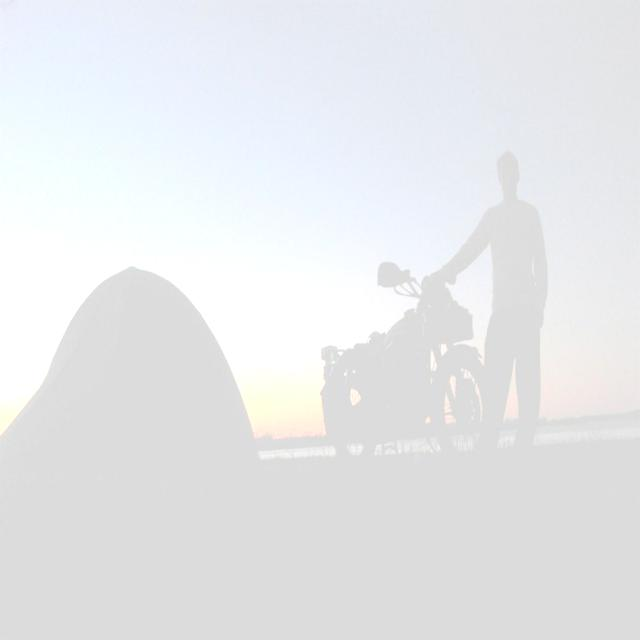Motorbike: (322, 264, 492, 478)
